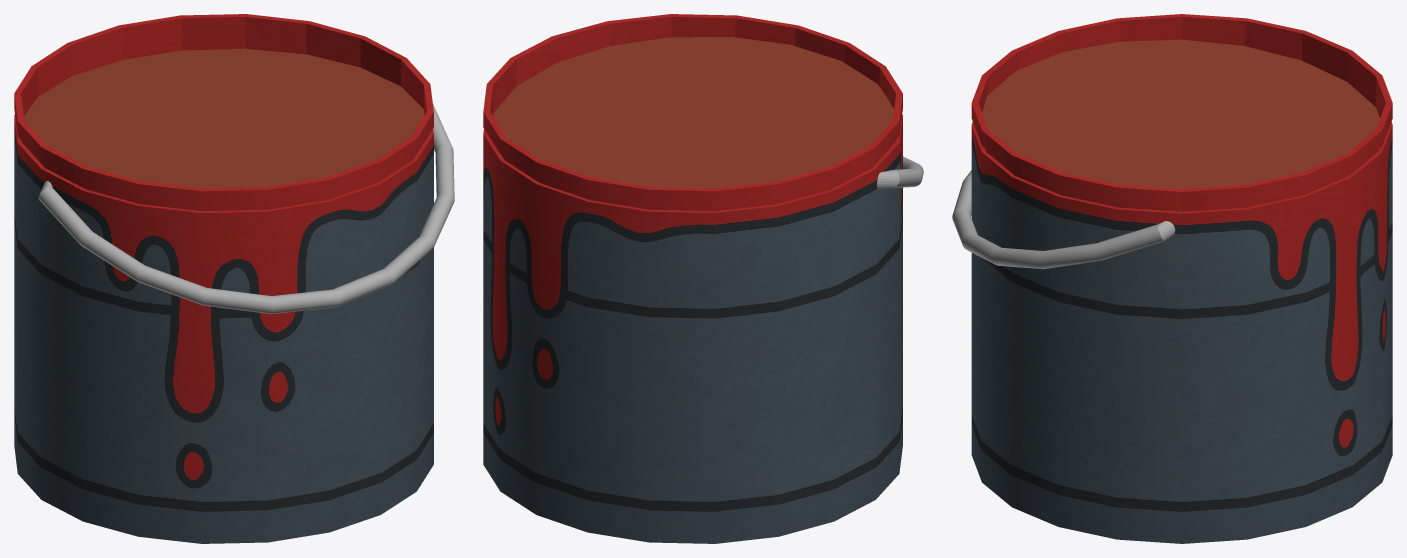
The model's file is paintbucket.fbx.
3 views of the same model, side by side, from view 1: azimuth 30°, elevation 25°; view 2: azimuth 150°, elevation 25°; view 3: azimuth 270°, elevation 25° (orthographic).
Parts seen in each view (by area): view 1: paintBucket, paintMesh, bucketHandle; view 2: paintBucket, paintMesh, bucketHandle; view 3: paintBucket, paintMesh, bucketHandle.
Boxes of the visible parts, left/top/right/bottom form: paintBucket: left=14, top=14, right=433, bottom=543; paintMesh: left=24, top=48, right=424, bottom=188; bucketHandle: left=38, top=104, right=454, bottom=314; paintBucket: left=483, top=14, right=902, bottom=543; paintMesh: left=493, top=37, right=894, bottom=188; bucketHandle: left=877, top=156, right=923, bottom=189; paintBucket: left=971, top=14, right=1392, bottom=543; paintMesh: left=982, top=39, right=1379, bottom=188; bucketHandle: left=952, top=170, right=1175, bottom=269.
Bounding box in the file's own units: 1.32 × 1.13 × 1.28.
3 materials, 1 textured.
